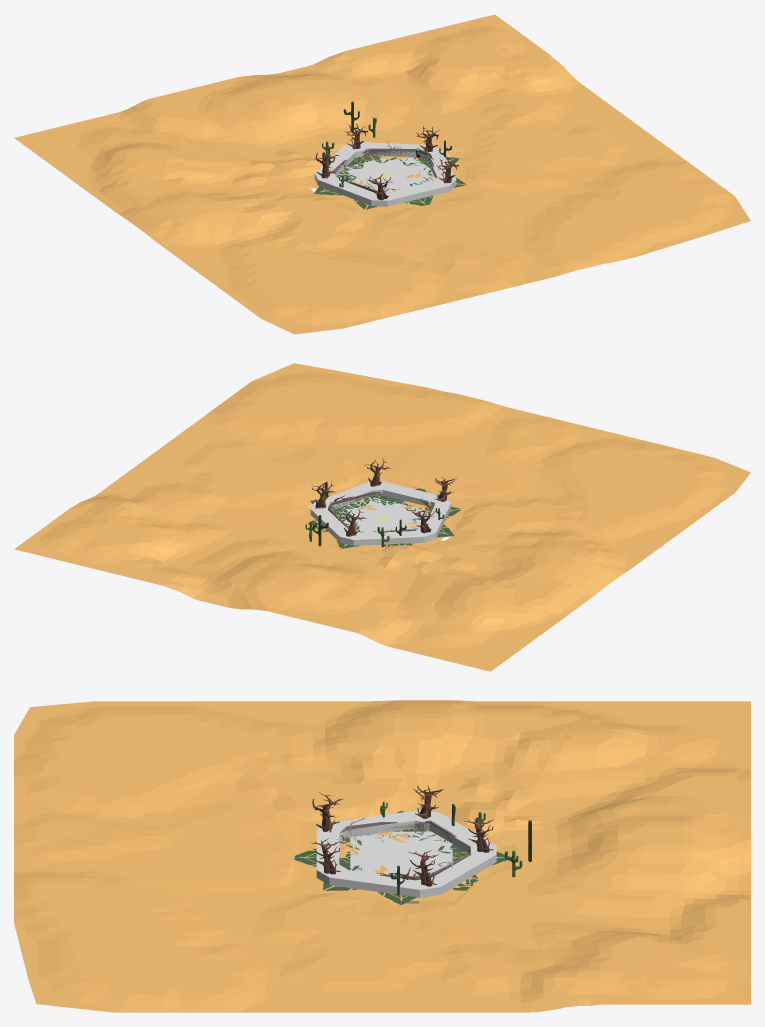
File: AGardenerForBawe_FBX2.fbx
3 renders of one model, top to bottom at view 1: azimuth 30°, elevation 25°; view 2: azimuth 150°, elevation 25°; view 3: azimuth 270°, elevation 25°, orthographic. The views are drawn at different scales.
Visible parts, largest first — view 1: Dunes, Thiccagon, BaseArenaSize, Sand_Inner, Seedling_Level, Tiles, Stage_Walls; view 2: Dunes, Thiccagon, BaseArenaSize, Sand_Inner, Seedling_Level, Tiles, Cactus_Level; view 3: Dunes, Thiccagon, BaseArenaSize, Sand_Inner, Seedling_Level, Tiles, Stage_Walls, Cactus_Level.
Part boxes in pixels (x1,y1,x2,y2): Dunes: (14, 14, 750, 334); Thiccagon: (314, 142, 456, 206); BaseArenaSize: (337, 156, 435, 192); Sand_Inner: (302, 145, 479, 217); Seedling_Level: (314, 123, 458, 200); Tiles: (314, 155, 466, 209); Stage_Walls: (332, 148, 436, 192); Dunes: (14, 363, 750, 671); Thiccagon: (310, 481, 451, 545); BaseArenaSize: (336, 497, 429, 532); Sand_Inner: (296, 477, 476, 551); Seedling_Level: (311, 457, 456, 536); Tiles: (308, 488, 461, 548); Cactus_Level: (305, 481, 444, 547); Dunes: (14, 700, 750, 1012); Thiccagon: (316, 810, 496, 903); BaseArenaSize: (350, 831, 452, 876); Sand_Inner: (299, 814, 503, 900); Seedling_Level: (310, 785, 493, 886); Tiles: (294, 811, 510, 904); Stage_Walls: (339, 820, 471, 880); Cactus_Level: (380, 801, 531, 895).
Bounding box in the file's own units: 721 × 721 × 58.71.
